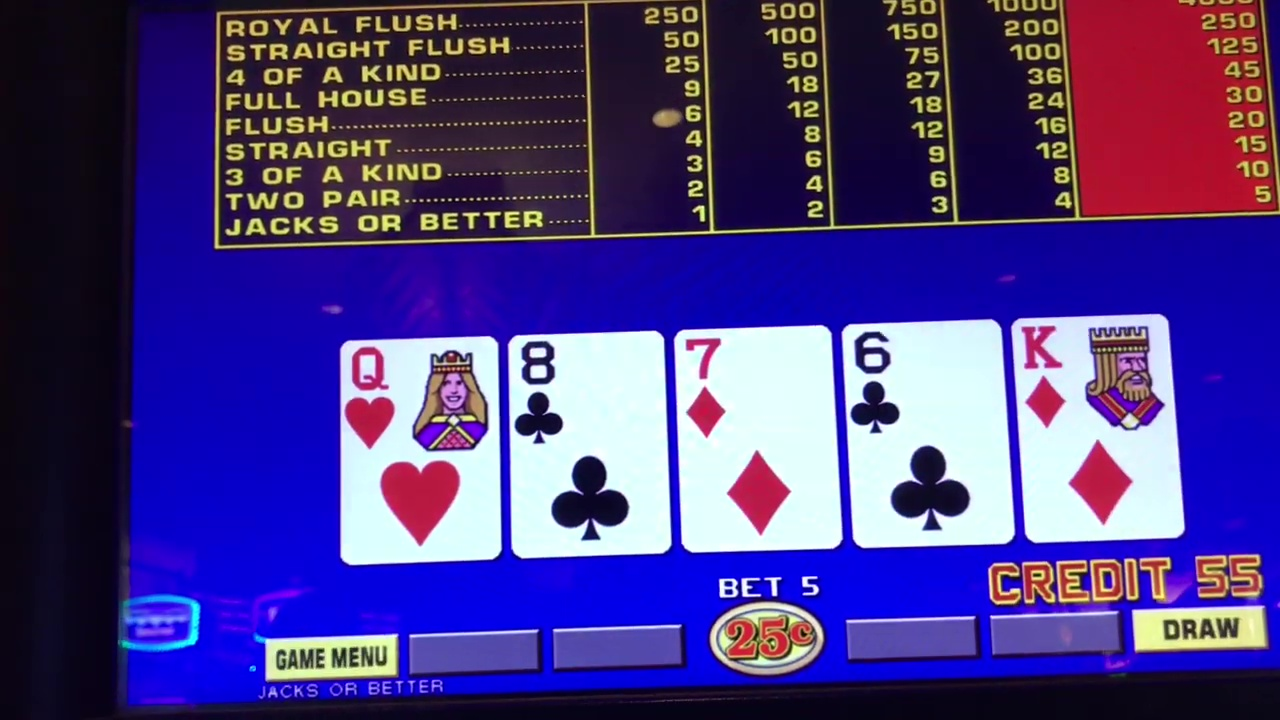C6: (846, 321, 1004, 544)
C8: (508, 337, 668, 554)
D7: (681, 330, 832, 546)
DK: (1021, 321, 1176, 538)
HQ: (344, 338, 498, 563)
